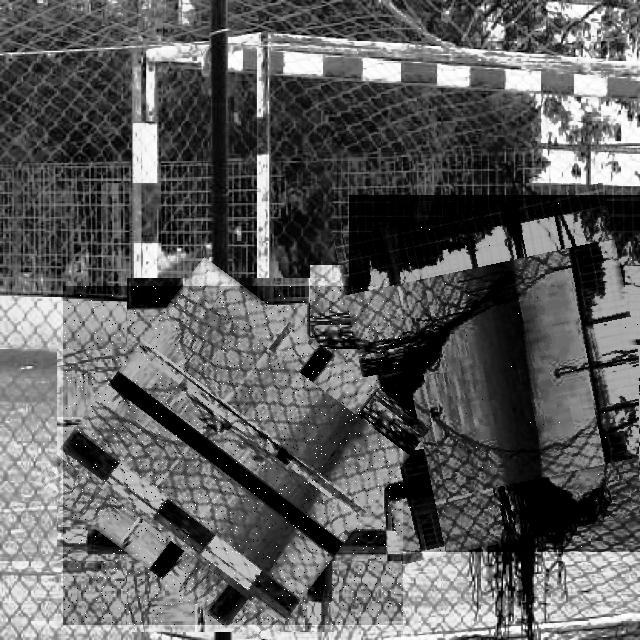anomaly-fence: (63, 286, 403, 625), (349, 195, 640, 552)
